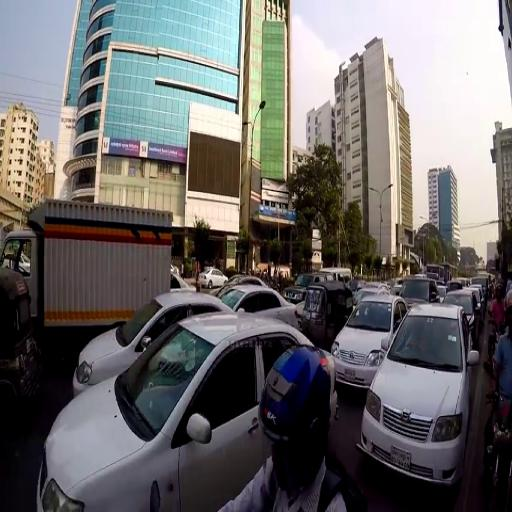bus: (443, 262, 459, 284)
car: (38, 312, 339, 512), (360, 302, 474, 485), (72, 289, 237, 392), (332, 291, 406, 389), (217, 283, 299, 330), (444, 288, 479, 336), (198, 268, 229, 287)
motorbike: (482, 362, 512, 471)
pickup: (1, 198, 175, 334)
suv: (285, 271, 333, 301), (399, 276, 438, 306)
three wheelers (CNG): (1, 265, 40, 411), (300, 280, 354, 342)
